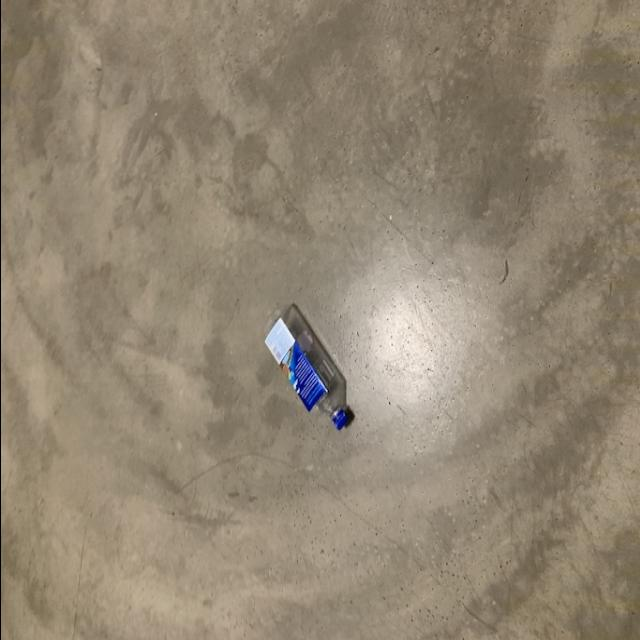litter: (251, 298, 358, 432)
